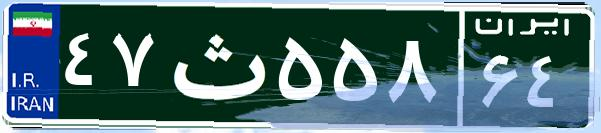4: (57, 26, 110, 107), (525, 38, 570, 115)
5: (273, 28, 330, 110), (330, 28, 385, 110)
6: (475, 38, 525, 113)
7: (110, 28, 158, 105)
8: (385, 28, 445, 110)
ث: (158, 15, 273, 115)
